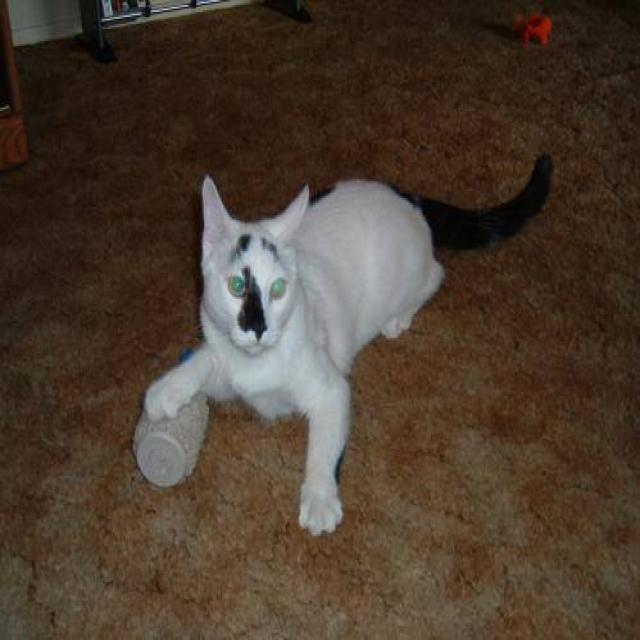cat: (141, 150, 553, 538)
